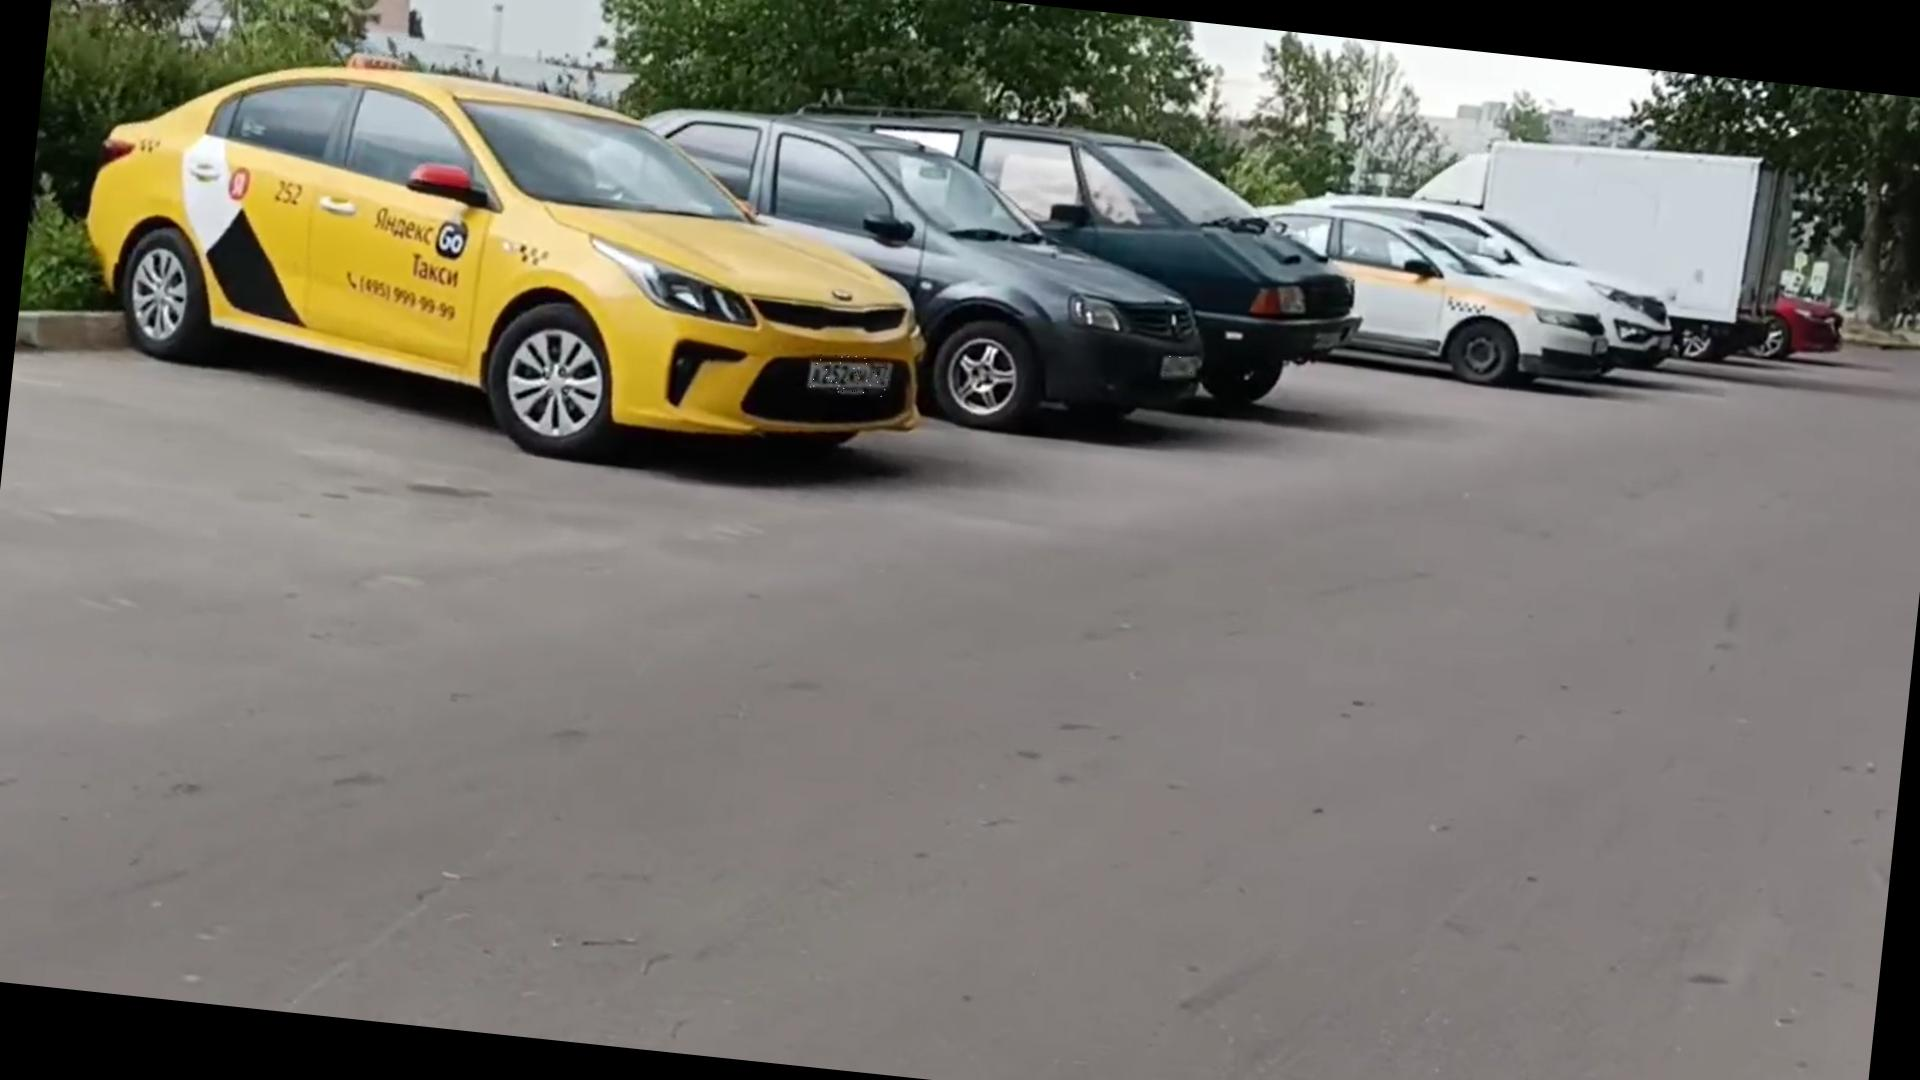plate: (811, 353, 894, 399), (1160, 356, 1207, 391)
